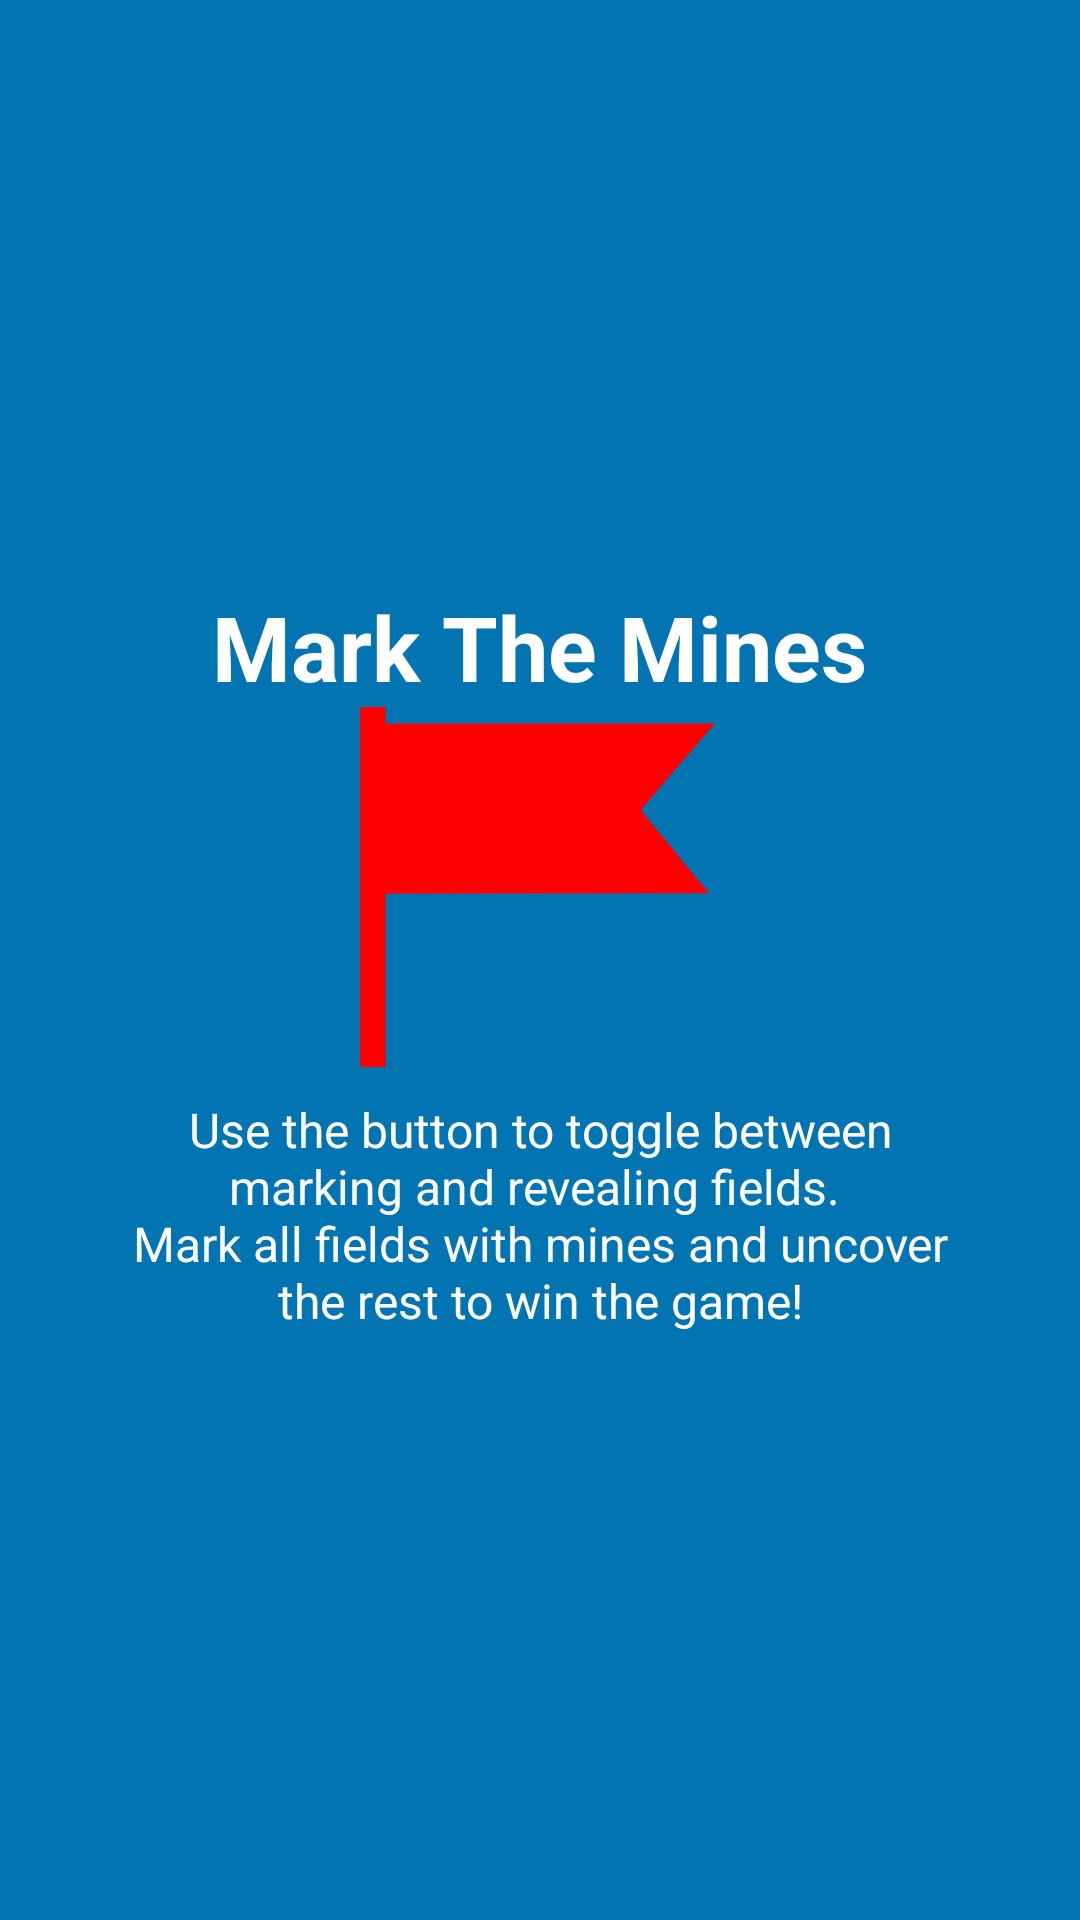

Icon bounding boxes for this 1080*1920 phone screenshot, format (x1, y1, x2, y2):
flagge: (360, 707, 715, 1067)
